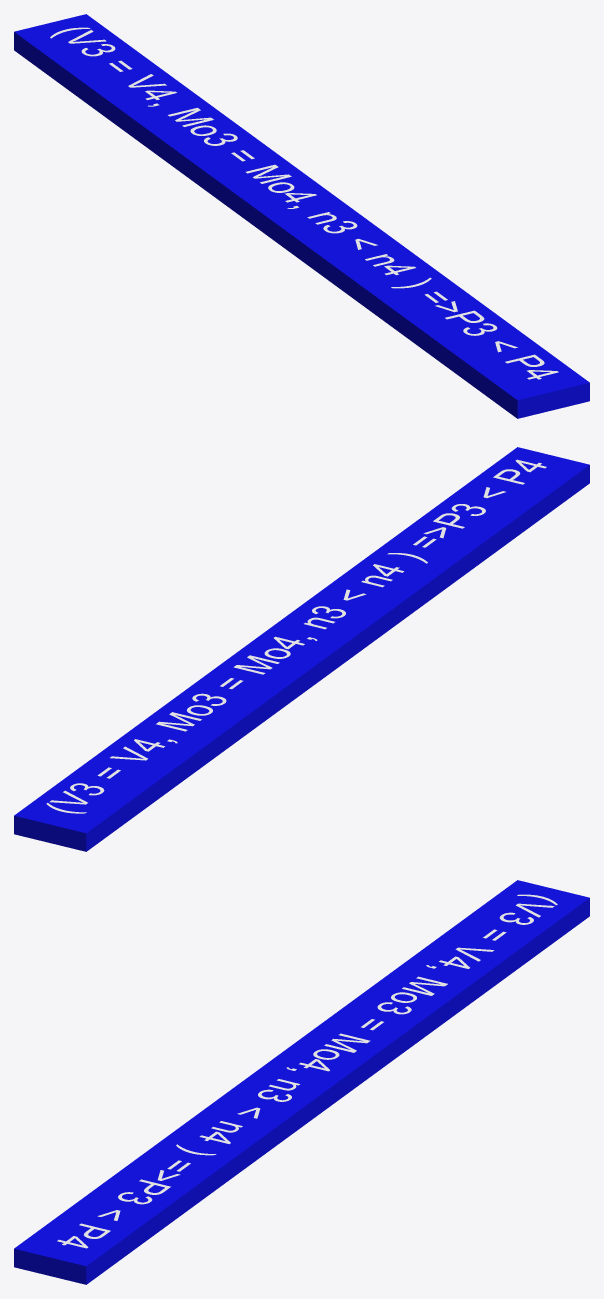
File: koncentr1.FBX
3 views of the same model, one above another, from view 1: azimuth 30°, elevation 25°; view 2: azimuth 150°, elevation 25°; view 3: azimuth 330°, elevation 25° (orthographic).
Parts seen in each view (by area): view 1: Text001; view 2: Text001; view 3: Text001.
Part boxes in pixels (x1=…): Text001: x1=14, y1=14, x2=589, y2=418; Text001: x1=14, y1=447, x2=589, y2=851; Text001: x1=14, y1=880, x2=589, y2=1284.
Bounding box in the file's own units: 25.83 × 7.23 × 311.
